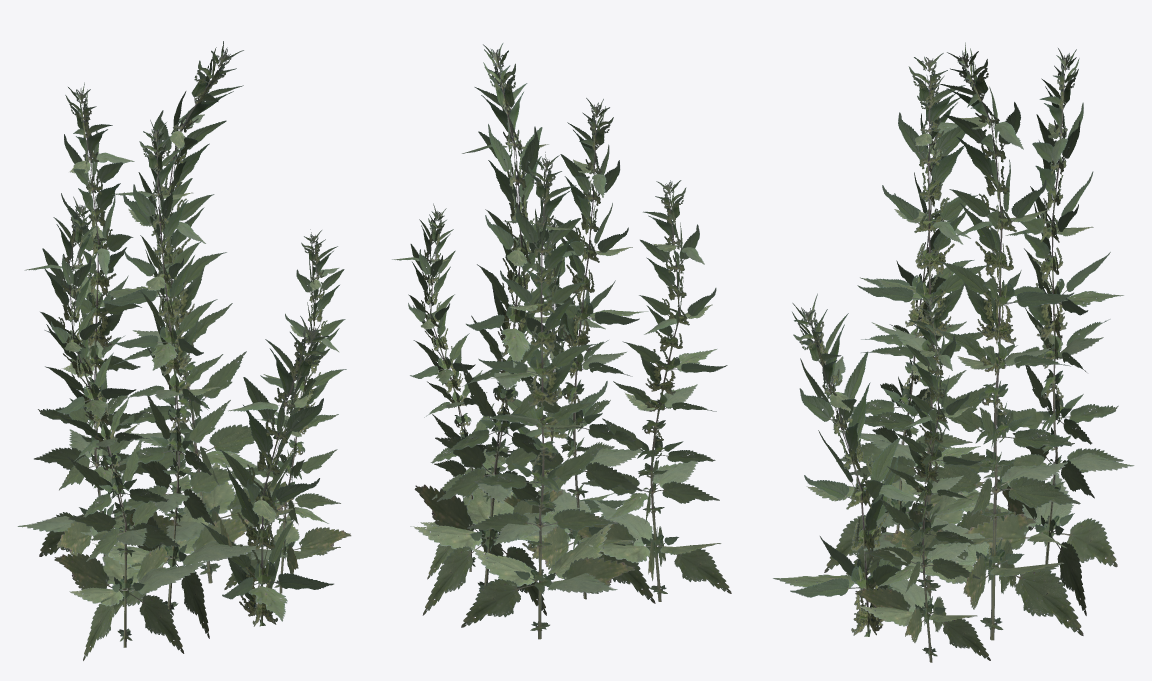
File: sm_Nettle_01_02.fbx
3 views of the same model, side by side, from view 1: azimuth 30°, elevation 25°; view 2: azimuth 150°, elevation 25°; view 3: azimuth 270°, elevation 25° (orthographic). The views are drawn at different scales.
Parts seen in each view (by area): view 1: sm_Nettle_01_02_LOD0; view 2: sm_Nettle_01_02_LOD0; view 3: sm_Nettle_01_02_LOD0.
Boxes of the visible parts, bbox=[...] form: sm_Nettle_01_02_LOD0: bbox=[17, 41, 351, 660]; sm_Nettle_01_02_LOD0: bbox=[392, 43, 731, 639]; sm_Nettle_01_02_LOD0: bbox=[773, 42, 1134, 662].
Size of the model in its own units: 81.48 by 73.11 by 135.
